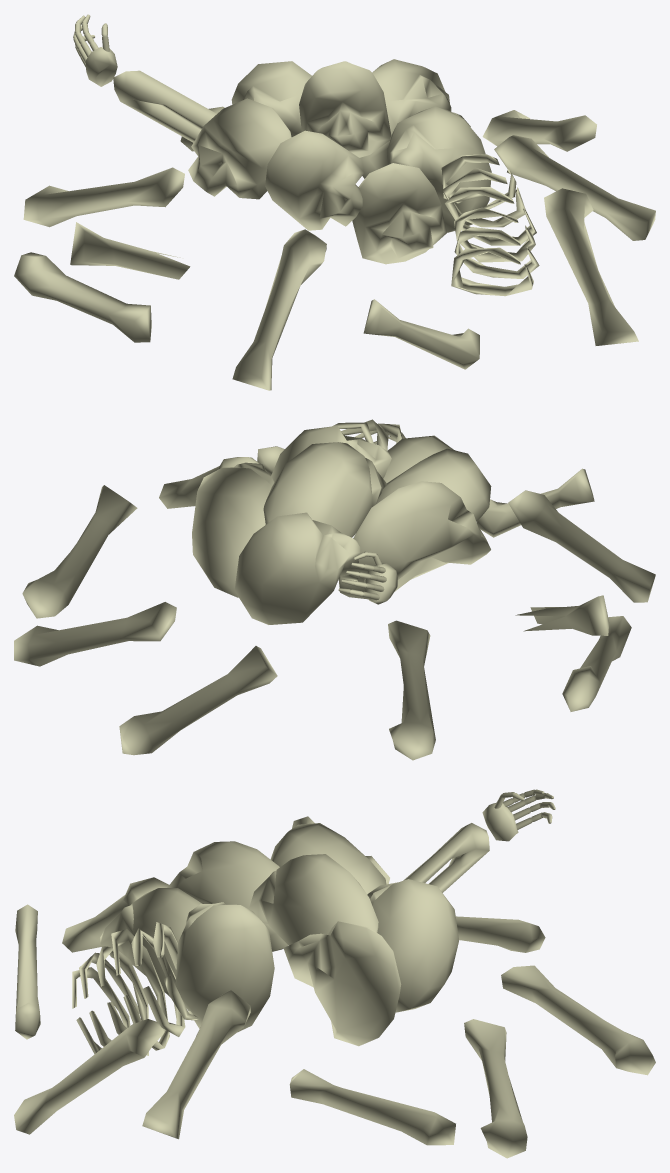
Rendered from huesosMonticulo.fbx.
3 views of the same model, one above another, from view 1: azimuth 30°, elevation 25°; view 2: azimuth 150°, elevation 25°; view 3: azimuth 270°, elevation 25° (orthographic).
Parts seen in each view (by area): view 1: arbolCalavera9; view 2: arbolCalavera9; view 3: arbolCalavera9.
Boxes of the visible parts, x1,y1,x2,y2 form: arbolCalavera9: (14, 14, 655, 390); arbolCalavera9: (14, 419, 655, 760); arbolCalavera9: (14, 789, 655, 1158).
Bounding box in the file's own units: 371 × 137 × 383.
